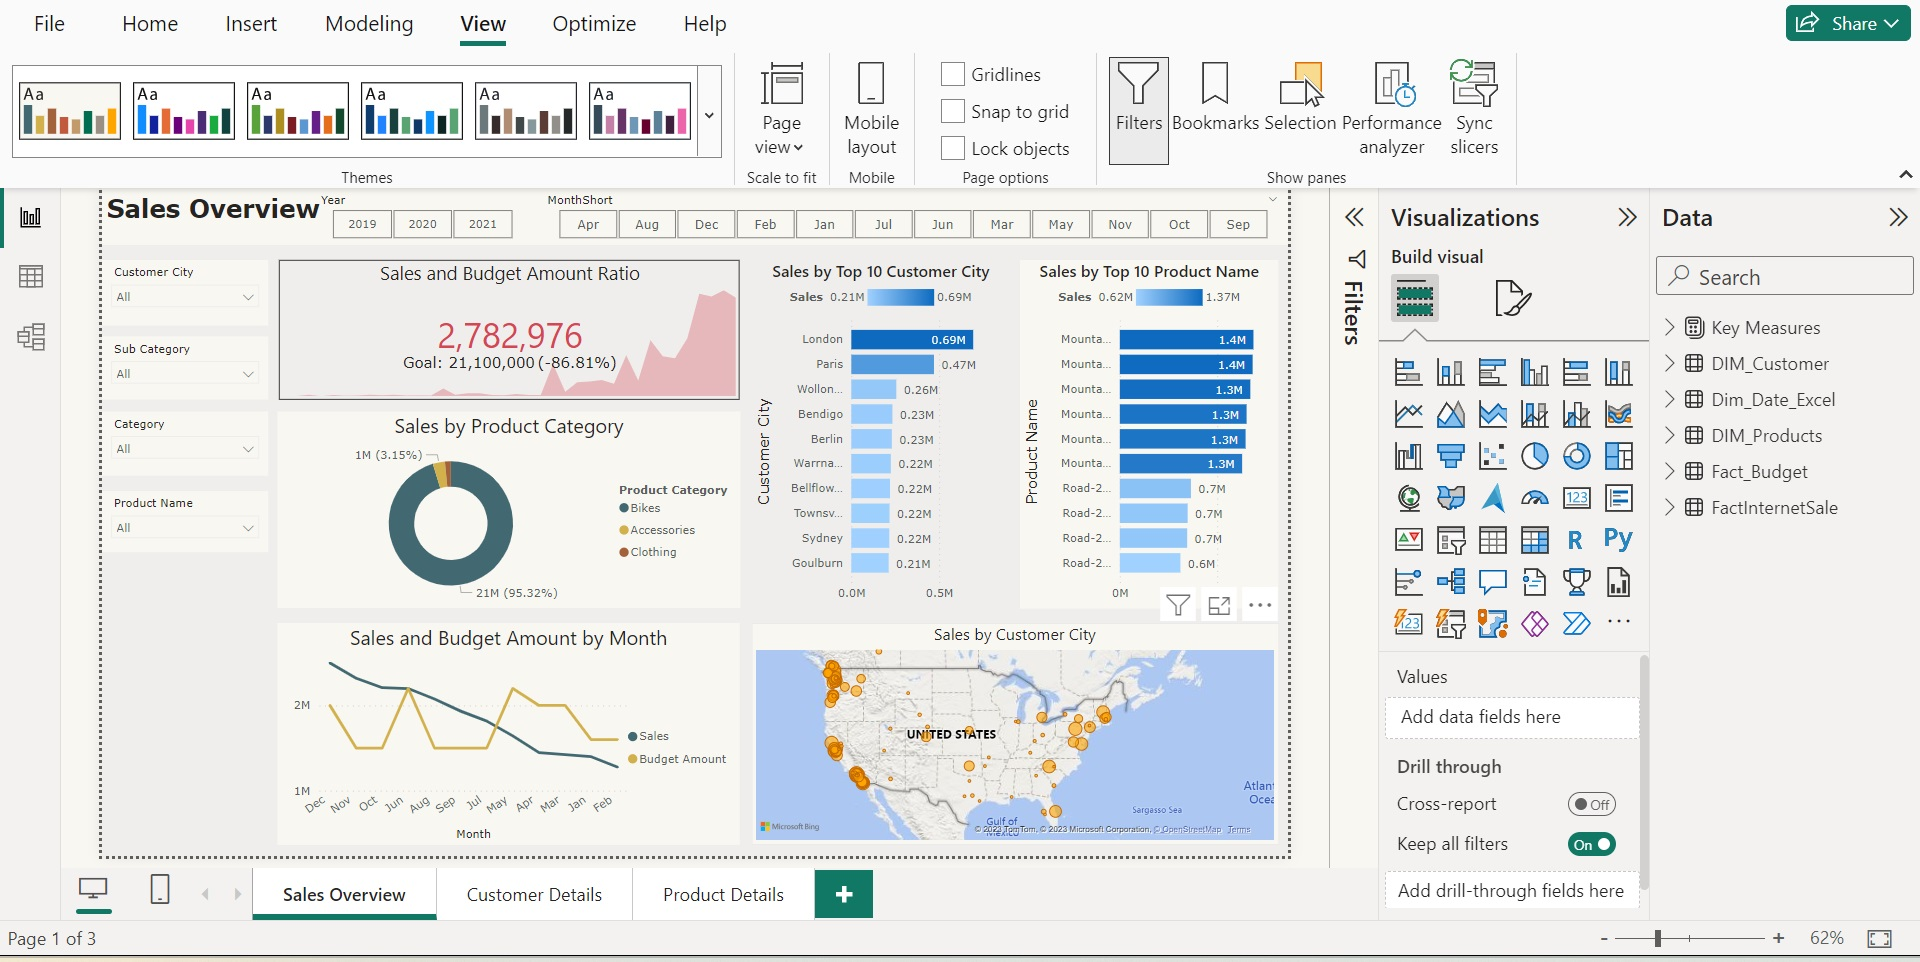

The page's visual inventory and layout, read from the dashboard file:
{"tool":"powerbi","page":{"name":"Sales Overview","canvas":[1280,720],"ordinal":0},"visuals":[{"type":"textbox","box":[0,0,1280,61.1],"z":0},{"type":"slicer","fields":{"Values":["DIM_Customer.Customer City"]},"box":[0,77.8,179.6,70.6],"z":1000},{"type":"slicer","fields":{"Values":["DIM_Products.Sub Category"]},"box":[0,160.4,179.6,68.3],"z":2000},{"type":"slicer","fields":{"Values":["DIM_Products.Product Category"]},"box":[0,241.9,179.6,69.4],"z":3000},{"type":"slicer","fields":{"Values":["DIM_Products.Product Name"]},"box":[0,326.9,179.6,65.9],"z":4000},{"type":"slicer","fields":{"Values":["Dim_Date_Excel.Year"]},"box":[223.9,0,243.1,61.1],"z":5000},{"type":"slicer","fields":{"Values":["Dim_Date_Excel.MonthShort"]},"box":[467,0,813,61.1],"z":6000},{"type":"kpi","title":"Sales and Budget Amount Ratio","fields":{"Indicator":["Key Measures.Sales"],"Goal":["Key Measures.Budget_Amount"],"TrendLine":["FactInternetSale.SalesAmount"]},"box":[191.6,77.8,496.9,150.9],"z":7000},{"type":"donutChart","fields":{"Category":["DIM_Products.Product Category"],"Y":["Key Measures.Sales"]},"box":[189.2,241.9,499.3,211.9],"z":8000},{"type":"lineChart","fields":{"Y":["Key Measures.Sales","Key Measures.Budget_Amount"],"Category":["Dim_Date_Excel.MonthShort"]},"box":[189.5,468.9,498.5,239.2],"z":9000},{"type":"barChart","title":"Sales by Top 10 Customer City","fields":{"Y":["Key Measures.Sales"],"Category":["DIM_Customer.Customer City"]},"box":[700.5,77.8,279,376],"z":10000},{"type":"barChart","title":"Sales by Top 10 Product Name","fields":{"Y":["Key Measures.Sales"],"Category":["DIM_Products.Product Name"]},"box":[990.2,77.8,279,376],"z":11000},{"type":"map","fields":{"Category":["DIM_Customer.Customer City"],"Size":["Key Measures.Sales"]},"box":[701,468.9,568.4,239.2],"z":12000}]}

Visuals, with their boxes on the page's 1280x720 design canvas (x1, y1, x2, y2). These are canvas units, not pixel positions in the 1920x962 screenshot, which may show the page scaled, cropped or inside an application window:
textbox: BBox(0, 0, 1280, 61)
slicer - DIM_Customer.Customer City: BBox(0, 78, 180, 148)
slicer - DIM_Products.Sub Category: BBox(0, 160, 180, 229)
slicer - DIM_Products.Product Category: BBox(0, 242, 180, 311)
slicer - DIM_Products.Product Name: BBox(0, 327, 180, 393)
slicer - Dim_Date_Excel.Year: BBox(224, 0, 467, 61)
slicer - Dim_Date_Excel.MonthShort: BBox(467, 0, 1280, 61)
"Sales and Budget Amount Ratio" kpi: BBox(192, 78, 688, 229)
donutChart - DIM_Products.Product Category x Key Measures.Sales: BBox(189, 242, 688, 454)
lineChart - Key Measures.Sales x Key Measures.Budget_Amount: BBox(190, 469, 688, 708)
"Sales by Top 10 Customer City" barChart: BBox(700, 78, 980, 454)
"Sales by Top 10 Product Name" barChart: BBox(990, 78, 1269, 454)
map - DIM_Customer.Customer City x Key Measures.Sales: BBox(701, 469, 1269, 708)
